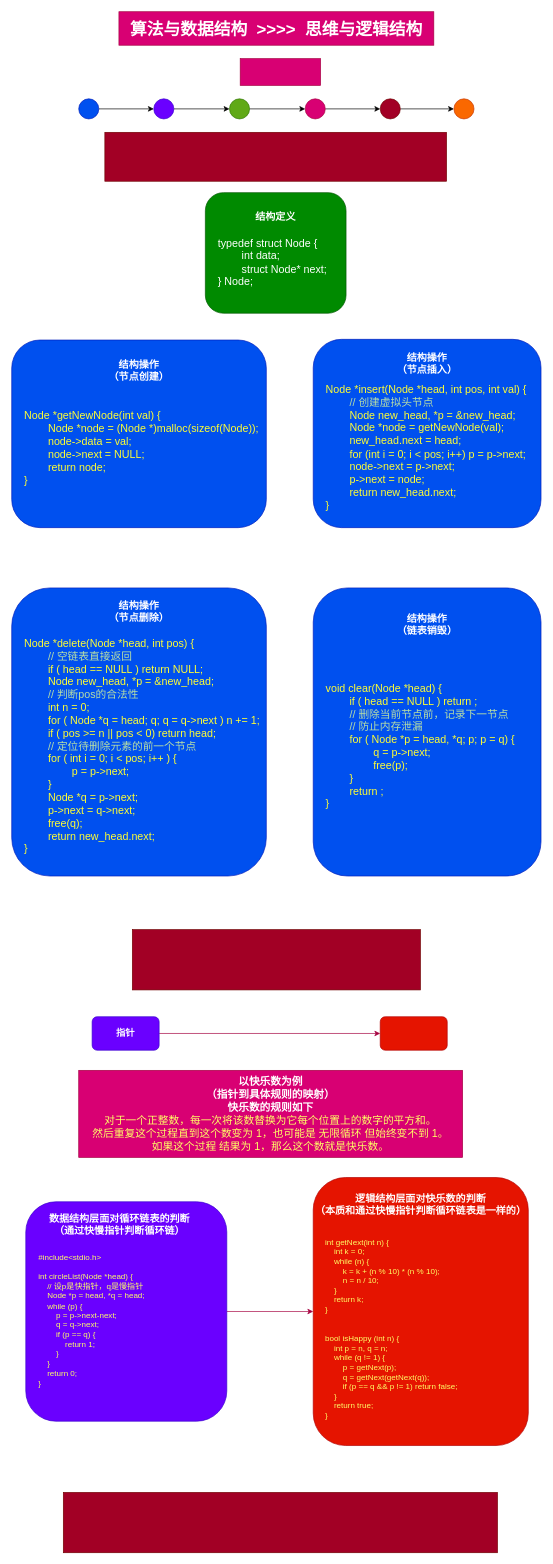
Some shapes in this 553 by 1564 pixel diagram are drawn without their labels. The centre of each missing label's shape, as x and y in pixels:
"1.链表" belongs at (280,71).
"关于循环链表和双向链表（比较简单，不详细叙述） （循环链表重点：头指针指向最后的节点） （双向链表：在结构定义中，添加指向前一个节点的prev指针）" belongs at (280,1522).
"数据结构层面 具有在表示和操作具有动态和非线性关系的数据集时的灵活性和效率" belongs at (275,156).
"规则" belongs at (413,1033).
"逻辑结构层面 链表结构代表着多个具有确定性关系的逻辑结构 将指针的指向，抽象为规则的实现" belongs at (276,959).
